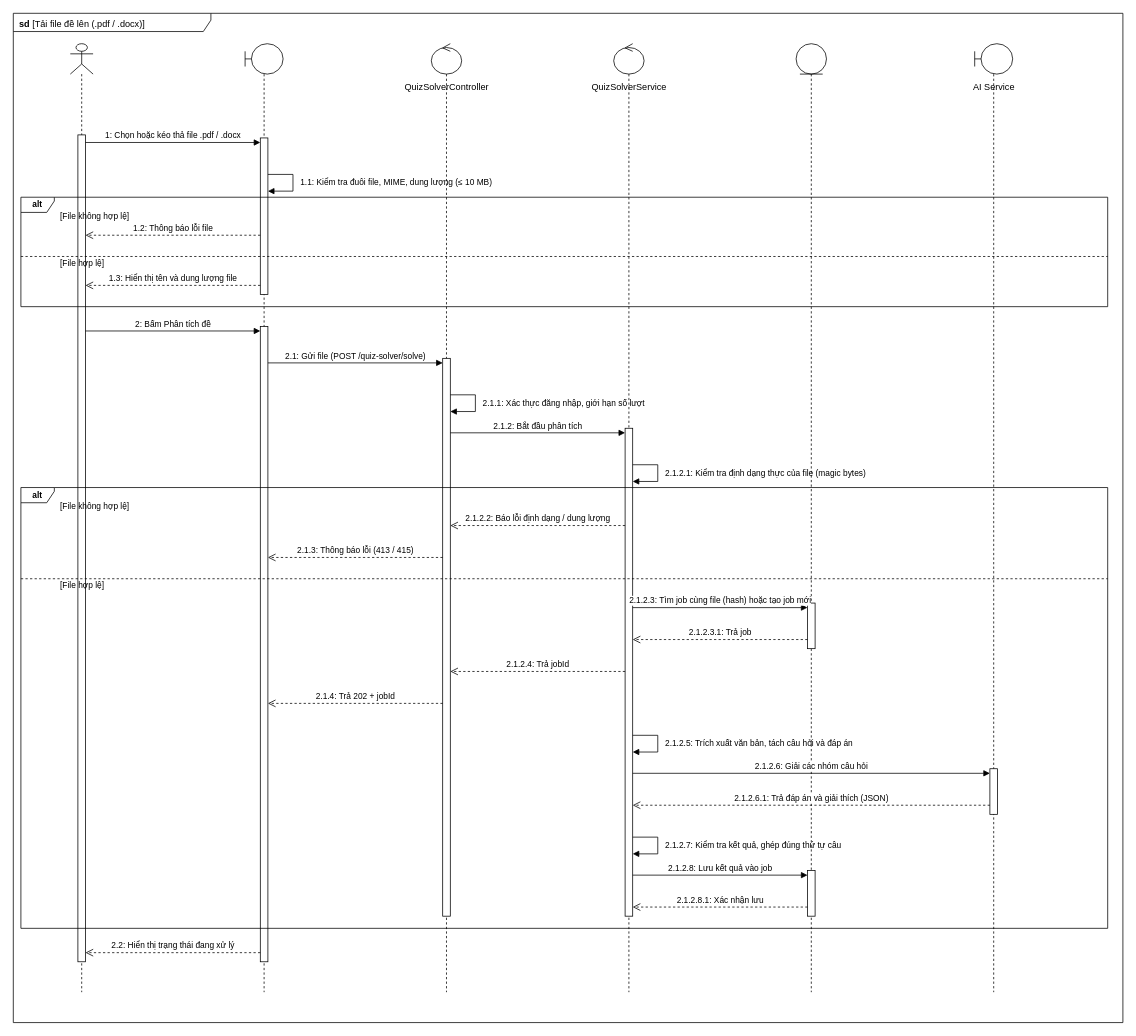
This 1136x1036 diagram has some shape labels left out. The shapes that lost their labels are listed below. From the top down, each one's box as (x1, y1, x2, y2) in pixels, then its label:
(70, 43, 93, 992): Member
(244, 43, 283, 992): UI AI Quiz Solver
(795, 43, 826, 992): Job Store (bộ nhớ)
